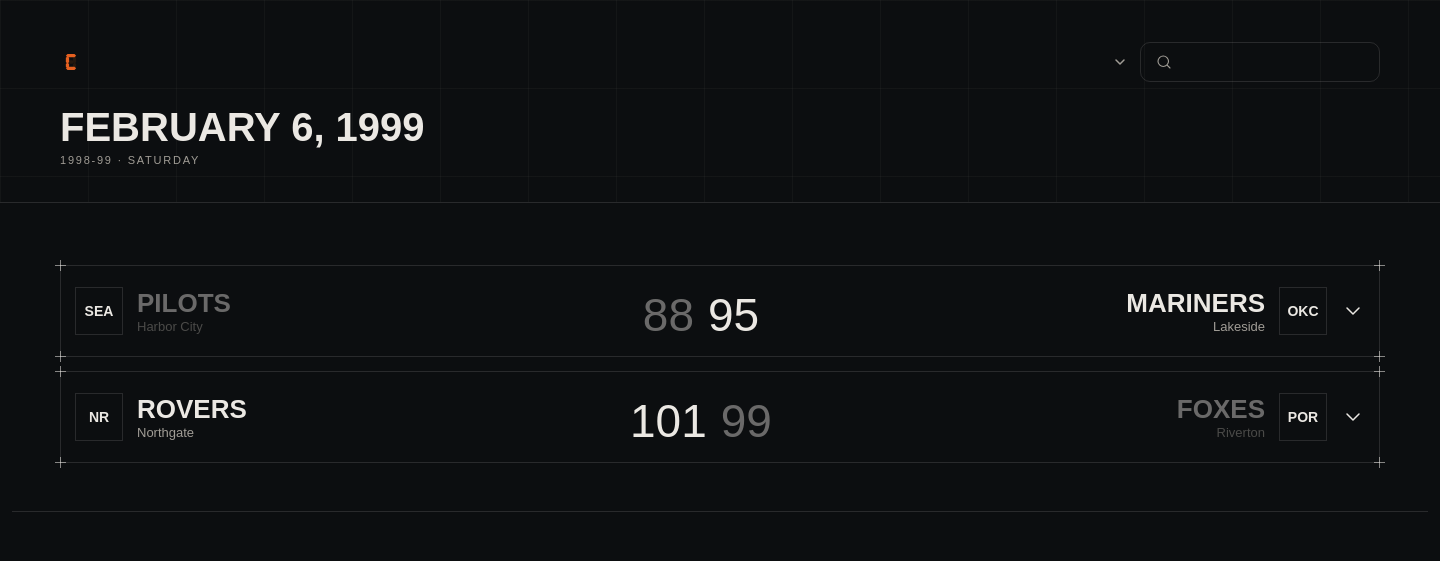
Scenario: DayPage › links an open card to its game page and shows no highlights block
Click the button with class "toggle" that starts with "SEA": click(720, 311) x1=61 y1=266 x2=1379 y2=356
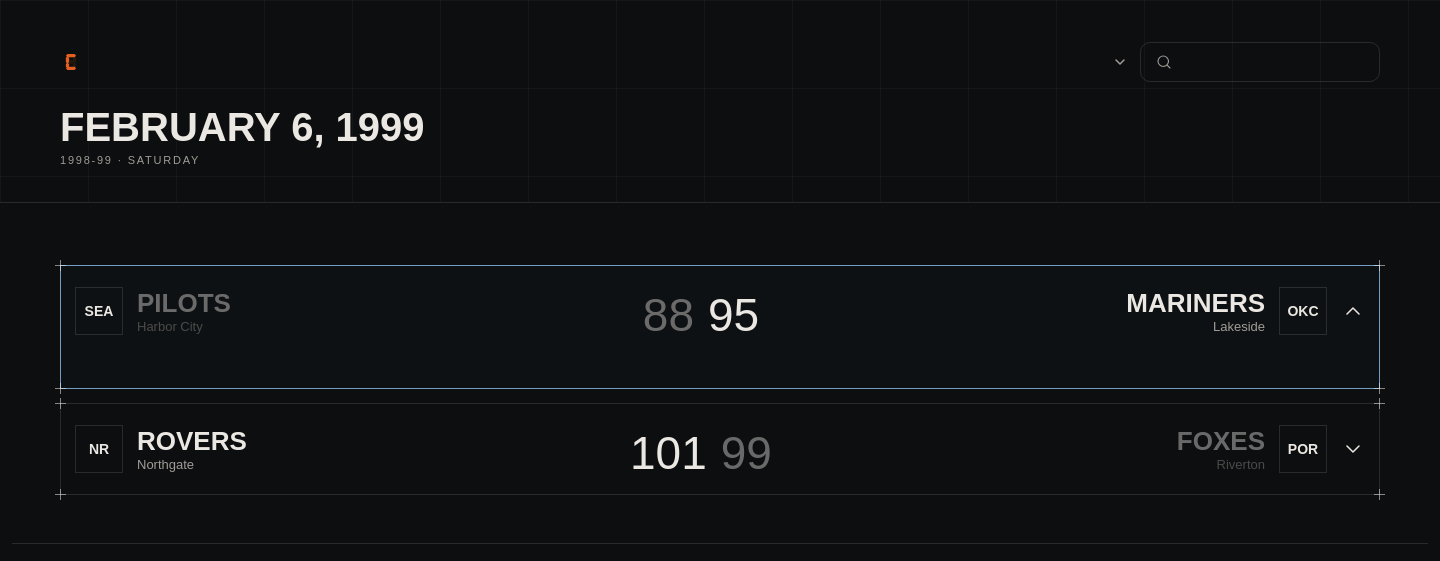
Now the button with class "toggle" is expanded, box x1=61 y1=266 x2=1379 y2=356
